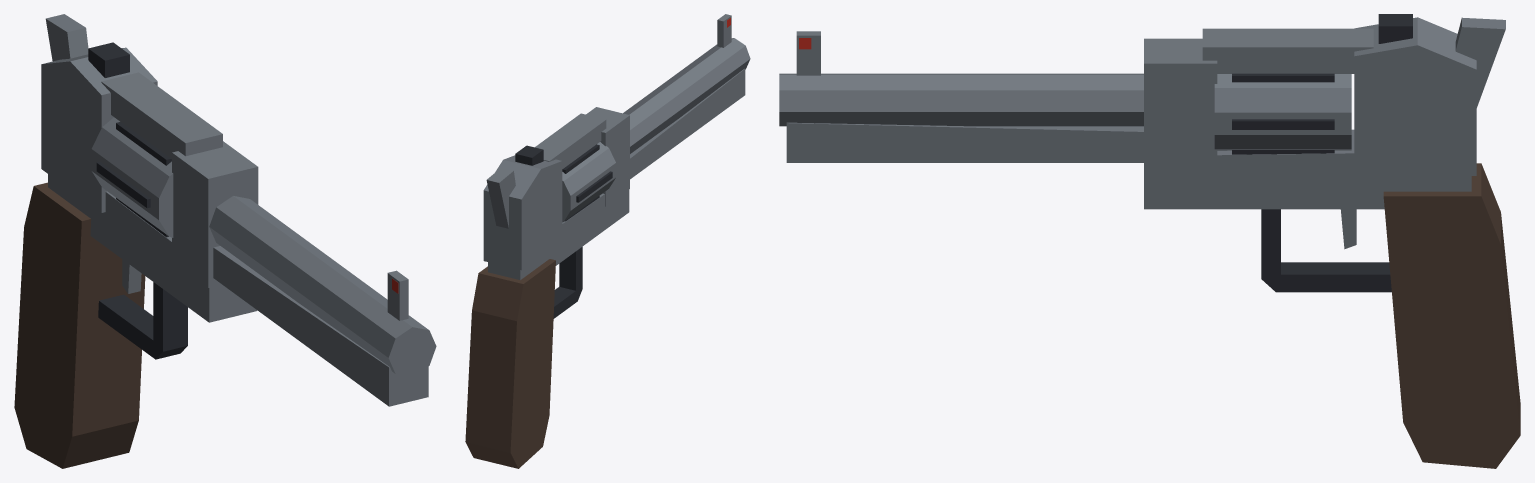
The model's file is revolver.glb.
3 views of the same model, side by side, from view 1: azimuth 30°, elevation 25°; view 2: azimuth 150°, elevation 25°; view 3: azimuth 270°, elevation 25° (orthographic). The views are drawn at different scales.
Parts seen in each view (by area): view 1: revolver_mesh; view 2: revolver_mesh; view 3: revolver_mesh.
Boxes of the visible parts, x1,y1,x2,y2 form: revolver_mesh: (14,14,436,468); revolver_mesh: (465,14,750,468); revolver_mesh: (779,14,1520,468).
Size of the model in its own units: 0.041 by 0.195 by 0.303.
1 material, 1 textured.
